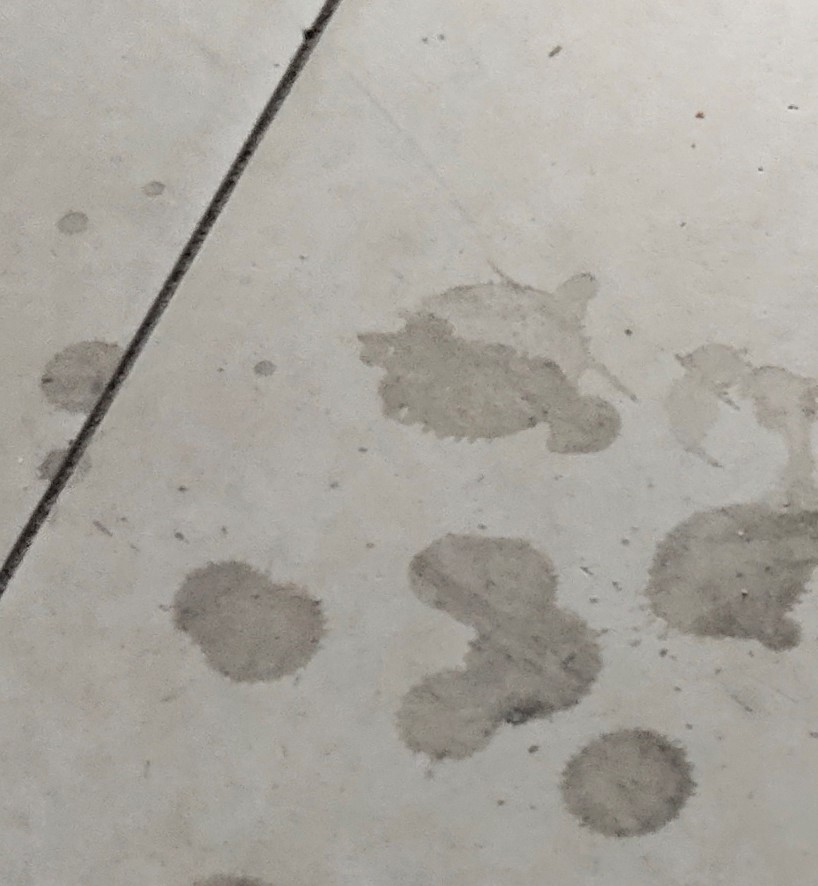grey spot: (644, 339, 817, 651), (355, 271, 638, 455), (397, 533, 601, 759), (173, 559, 322, 680), (557, 727, 695, 839), (36, 338, 128, 409), (38, 439, 90, 489), (54, 209, 88, 235), (252, 360, 278, 373), (147, 179, 167, 191)
